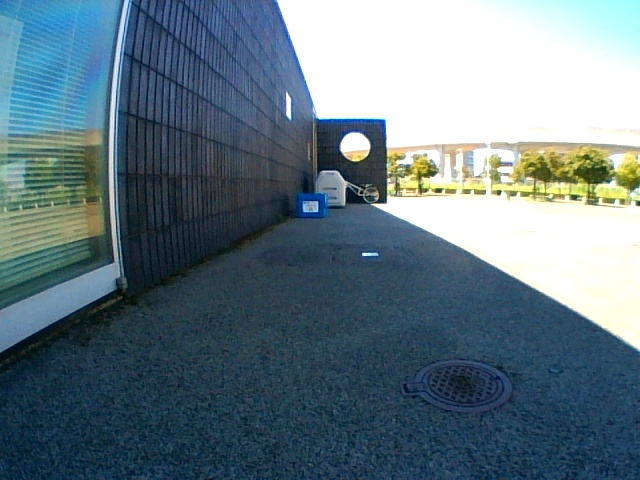blue_box: (297, 193, 326, 217)
tag: (303, 201, 318, 212)
